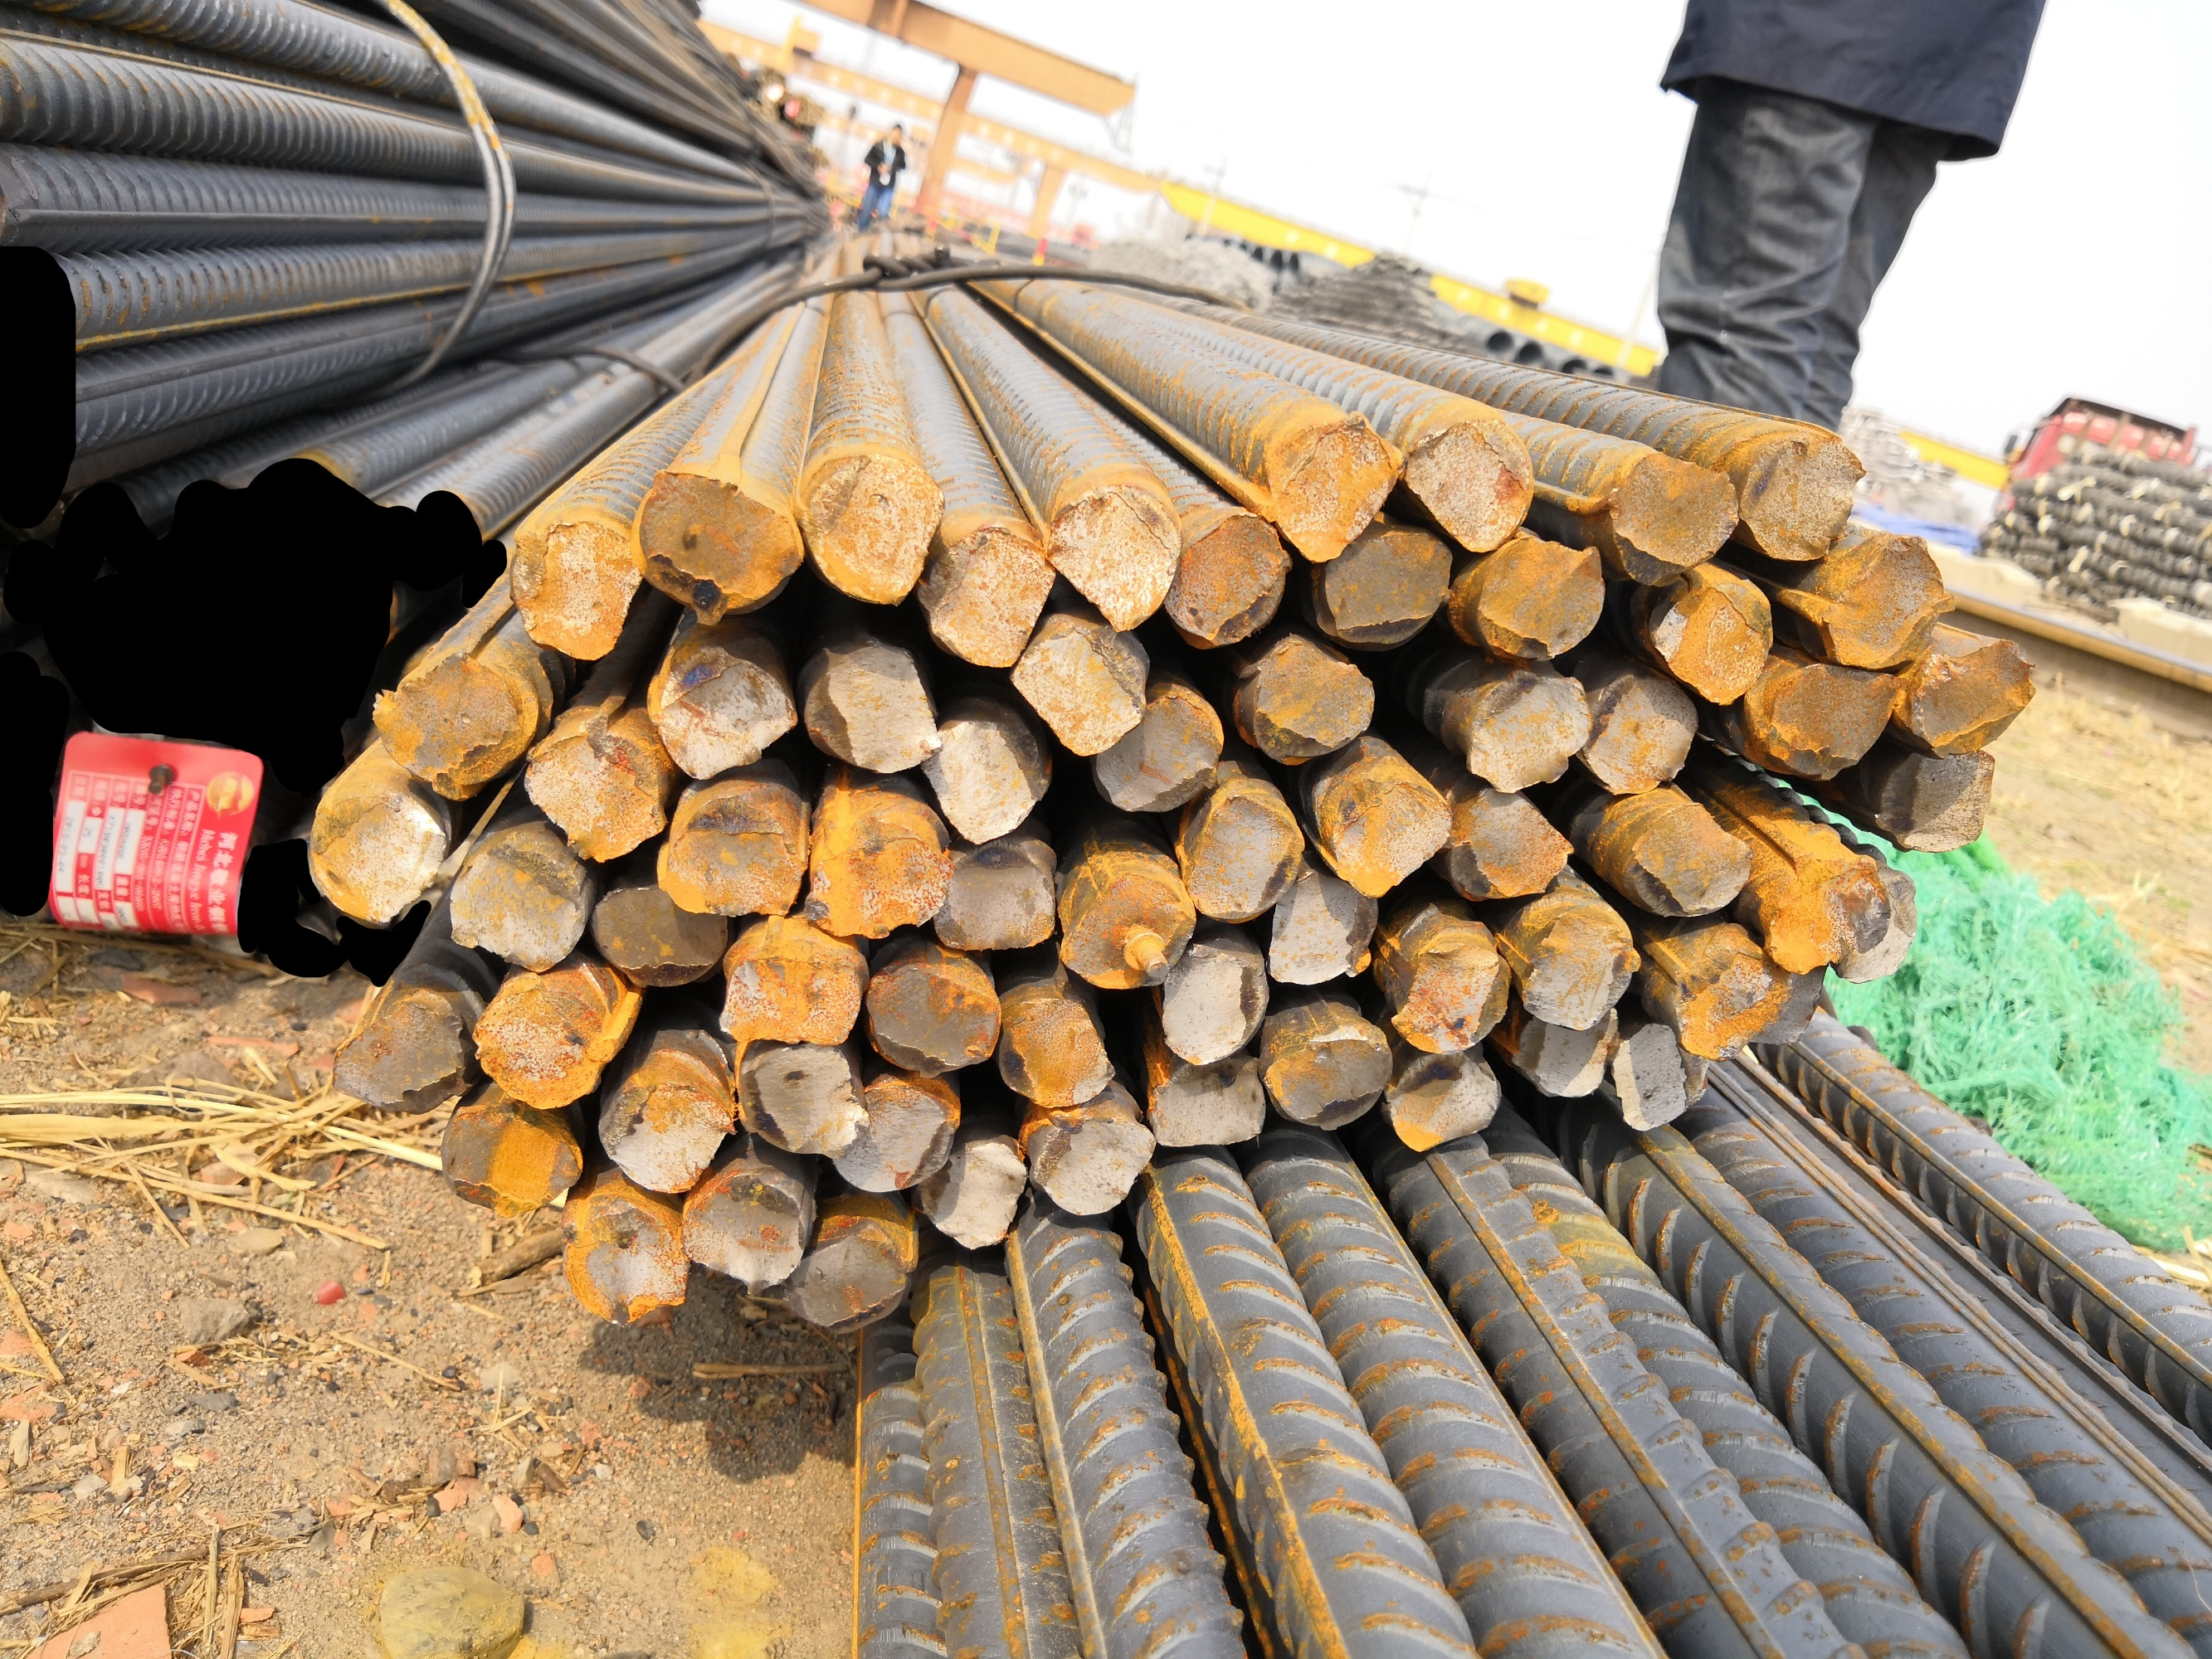rebar: (633, 467, 807, 629), (371, 643, 539, 800), (1257, 401, 1408, 568), (798, 450, 948, 610), (1797, 528, 1958, 674), (1044, 476, 1185, 636), (519, 714, 669, 864), (1586, 443, 1741, 587), (643, 638, 800, 781), (1006, 608, 1150, 762), (302, 784, 451, 927), (915, 523, 1056, 674), (446, 829, 589, 976), (802, 634, 947, 777), (655, 788, 809, 920), (471, 983, 626, 1112), (507, 516, 641, 664), (1089, 678, 1229, 819), (1401, 408, 1537, 552), (1051, 864, 1199, 993), (922, 709, 1056, 849), (1733, 429, 1869, 565), (1161, 511, 1293, 650), (1647, 570, 1780, 709), (804, 824, 959, 943), (1511, 897, 1642, 1037), (1759, 660, 1909, 781), (1762, 838, 1895, 974), (1471, 535, 1609, 666), (716, 932, 865, 1053), (1313, 525, 1455, 648), (1245, 633, 1379, 763), (326, 993, 467, 1117), (596, 1072, 737, 1195), (1178, 788, 1306, 924), (1388, 925, 1517, 1058), (678, 1171, 812, 1297), (560, 1202, 689, 1331), (1621, 796, 1754, 922), (1466, 669, 1595, 796), (439, 1098, 584, 1211), (1579, 664, 1700, 798), (866, 955, 1002, 1073), (734, 1040, 872, 1157), (1910, 633, 2038, 758), (1323, 775, 1452, 899), (1665, 941, 1795, 1063), (586, 880, 729, 992), (1449, 779, 1576, 903), (830, 1077, 962, 1195), (1260, 864, 1382, 990), (1157, 939, 1272, 1070), (1381, 1042, 1510, 1155), (1028, 1108, 1159, 1220), (1262, 1023, 1394, 1133), (783, 1223, 912, 1333), (1874, 746, 2001, 854), (997, 995, 1117, 1108), (1827, 863, 1928, 995), (934, 843, 1058, 951), (1607, 1016, 1715, 1136), (919, 1136, 1028, 1253), (1142, 1054, 1267, 1148), (1741, 953, 1835, 1065), (1515, 1004, 1621, 1100)
